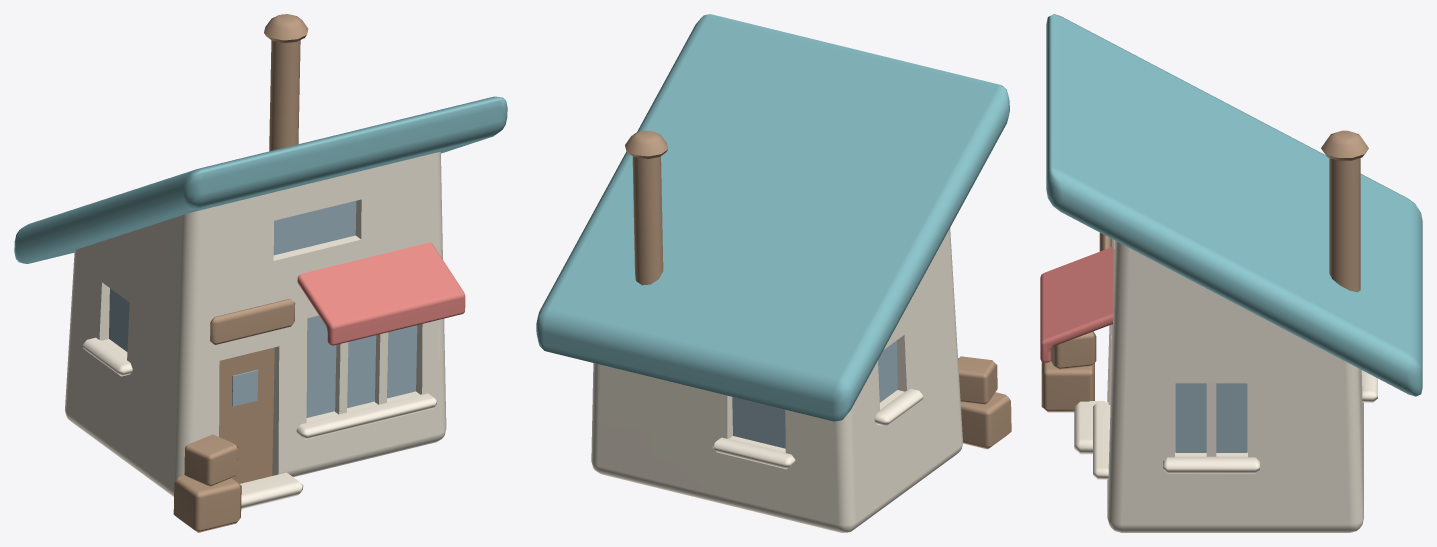
Rendered from chunky_shop.glb.
The picture shows the model from 3 angles, left to right: view 1: azimuth 30°, elevation 25°; view 2: azimuth 150°, elevation 25°; view 3: azimuth 270°, elevation 25°; orthographic projection. The views are drawn at different scales.
Parts seen in each view (by area): view 1: chunky_shop; view 2: chunky_shop; view 3: chunky_shop.
Part boxes in pixels (left/top/right/bottom): chunky_shop: left=14, top=14, right=507, bottom=532; chunky_shop: left=536, top=14, right=1011, bottom=532; chunky_shop: left=1040, top=14, right=1422, bottom=532.
Bounding box in the file's own units: 1.64 × 1.74 × 1.58.
